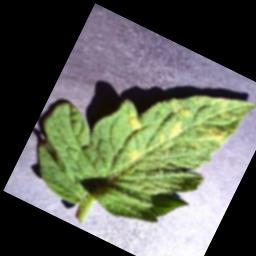Leaf_Mold: (136, 62, 254, 181), (119, 107, 147, 136), (123, 143, 147, 168)
